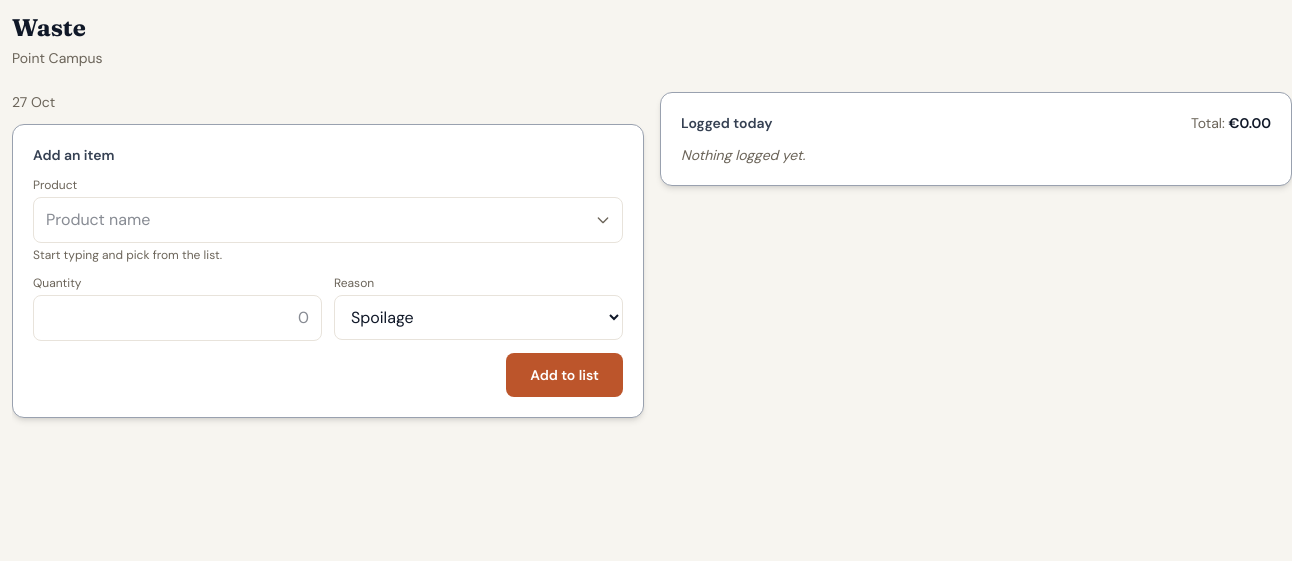
picking a product › offers every match, not only the first eight
Type "Tomato" into the dropdown with placeholder "Product name" at coordinates (328, 220), box [33,197,623,243]
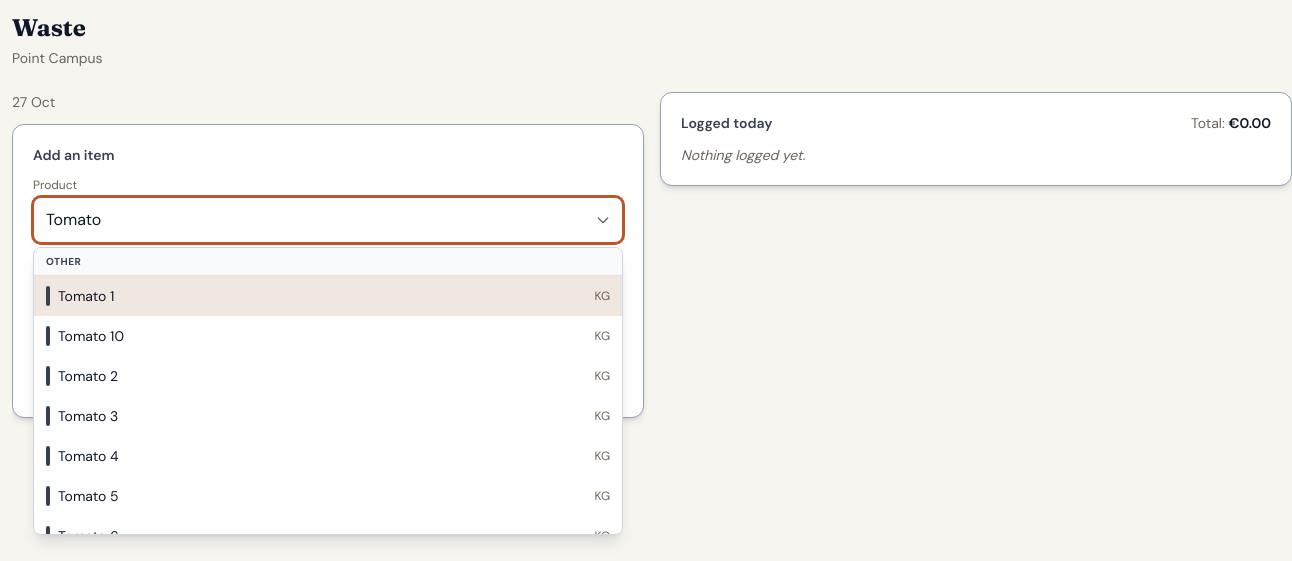
Expected: the number of options "Tomato 1 KG" is 10
